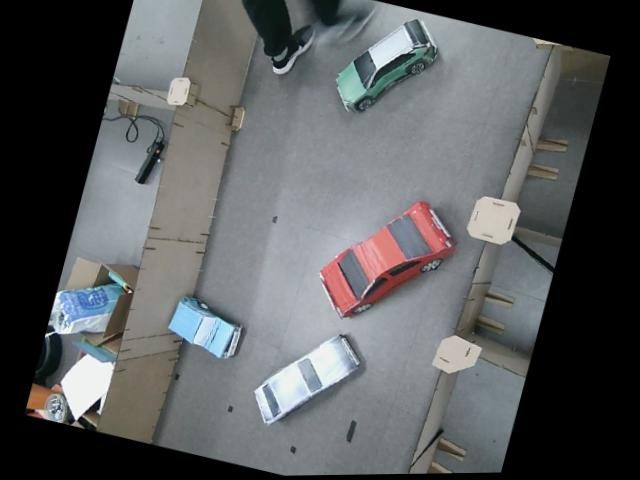car: (305, 178, 467, 344), (243, 314, 368, 446), (324, 1, 447, 132), (159, 291, 250, 365)
